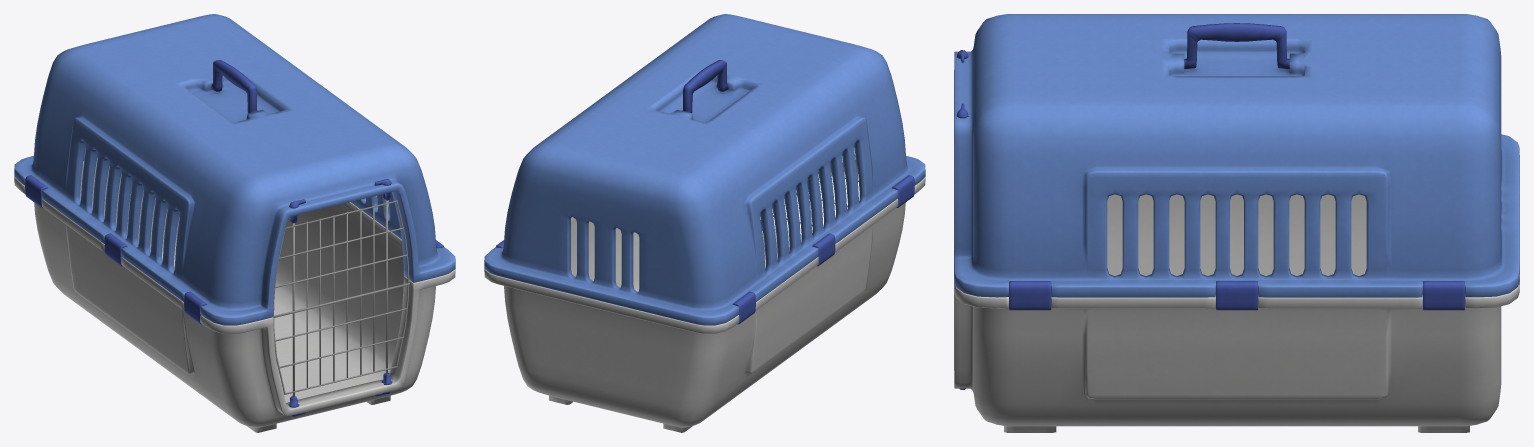
File: Carrier.fbx
The picture shows the model from 3 angles, left to right: view 1: azimuth 30°, elevation 25°; view 2: azimuth 150°, elevation 25°; view 3: azimuth 270°, elevation 25°; orthographic projection. The views are drawn at different scales.
Visible parts, largest first — view 1: Carrier_UP, Carrier_Bottom, Carrier_Door; view 2: Carrier_UP, Carrier_Bottom; view 3: Carrier_UP, Carrier_Bottom.
Boxes of the visible parts, box(x1,y1,x2,y2) form: Carrier_UP: box(14, 14, 455, 325); Carrier_Bottom: box(14, 158, 455, 432); Carrier_Door: box(273, 200, 409, 396); Carrier_UP: box(484, 14, 925, 325); Carrier_Bottom: box(484, 175, 925, 432); Carrier_UP: box(954, 14, 1519, 297); Carrier_Bottom: box(954, 194, 1519, 432).
Bounding box in the file's own units: 0.4242 × 0.4663 × 0.6523.
